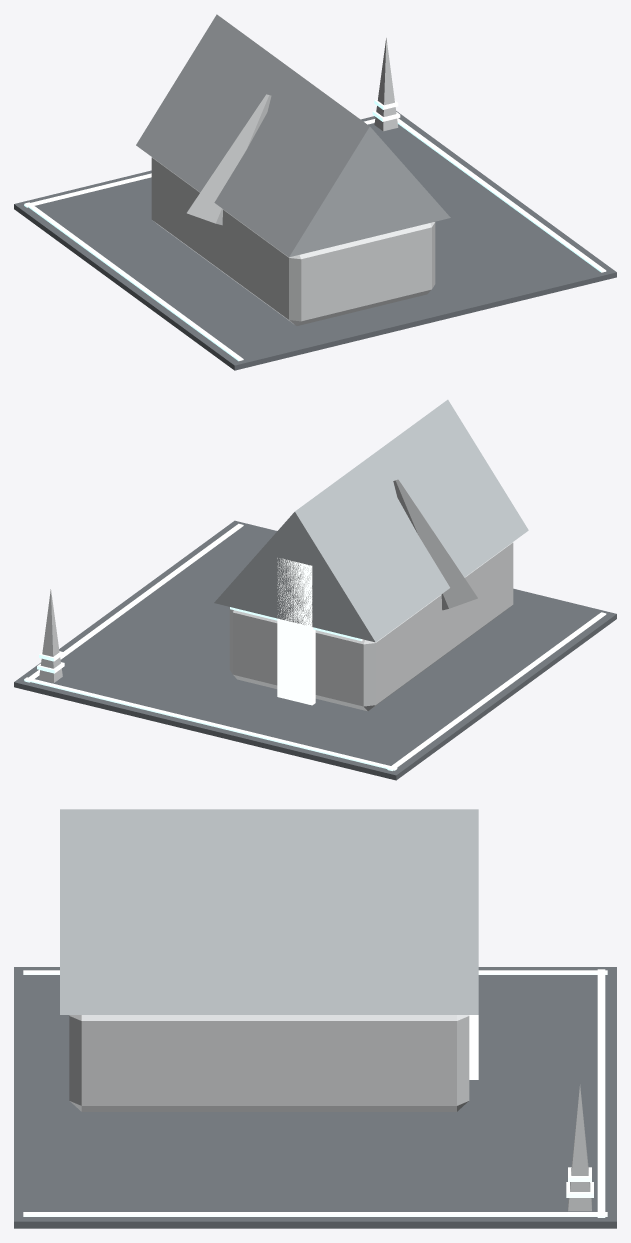
File: zone_low_2_t2.glb
3 renders of one model, top to bottom at view 1: azimuth 30°, elevation 25°; view 2: azimuth 150°, elevation 25°; view 3: azimuth 270°, elevation 25°, orthographic. The views are drawn at different scales.
Visible parts, largest first — view 1: zone_low_2_t2, detail; view 2: zone_low_2_t2, detail; view 3: zone_low_2_t2, detail.
Part boxes in pixels (x1,y1,x2,y2): zone_low_2_t2: (14,14,616,370); detail: (24,37,606,361); zone_low_2_t2: (14,399,616,780); detail: (24,523,606,770); zone_low_2_t2: (14,809,616,1228); detail: (23,969,607,1217).
Size of the model in its own units: 19.6 by 11.69 by 19.6.
